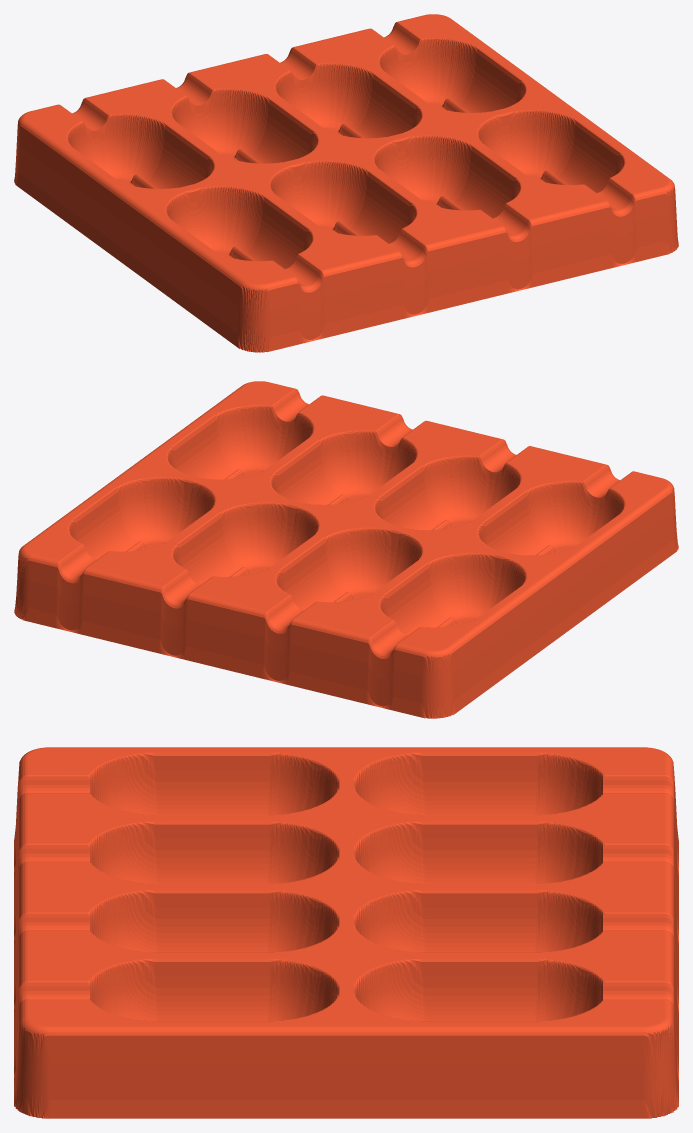
Rendered from mold.glb.
The picture shows the model from 3 angles, top to bottom: view 1: azimuth 30°, elevation 25°; view 2: azimuth 150°, elevation 25°; view 3: azimuth 270°, elevation 25°; orthographic projection. The views are drawn at different scales.
Parts seen in each view (by area): view 1: geometry_0; view 2: geometry_0; view 3: geometry_0.
Boxes of the visible parts, box(x1,y1,x2,y2) form: geometry_0: box(14, 14, 678, 352); geometry_0: box(14, 381, 678, 718); geometry_0: box(14, 747, 678, 1118).
Size of the model in its own units: 0.1765 by 0.0245 by 0.1709.
